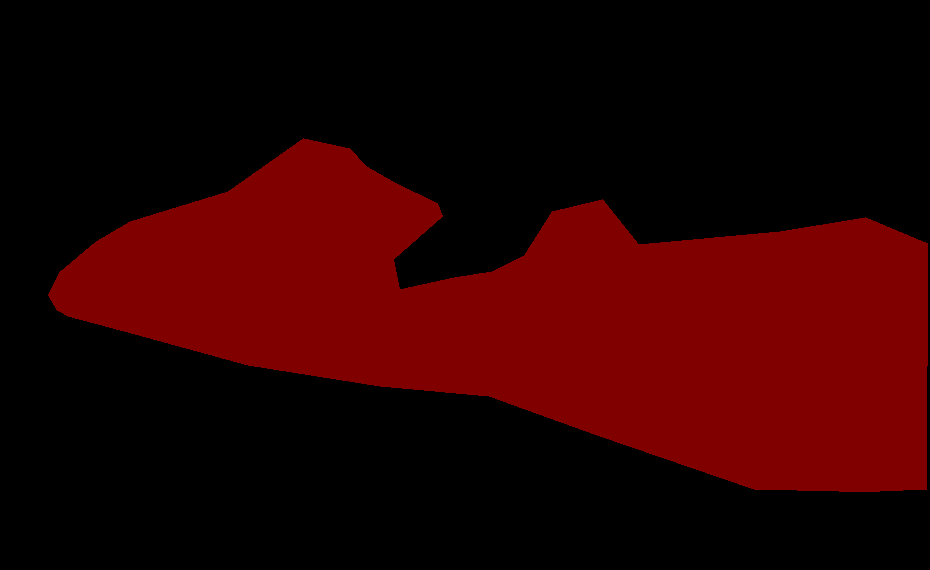fire: (48, 138, 927, 491)
